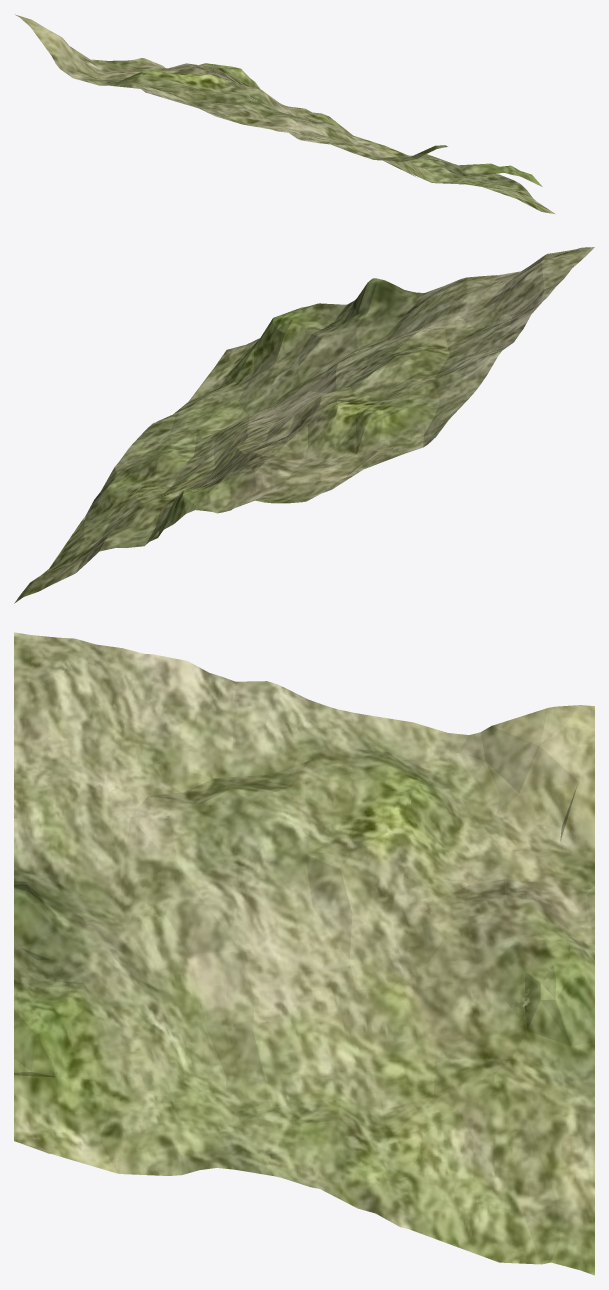
3 views of the same model, one above another, from view 1: azimuth 30°, elevation 25°; view 2: azimuth 150°, elevation 25°; view 3: azimuth 270°, elevation 25° (orthographic). The views are drawn at different scales.
Size of the model in its own units: 2.95 by 2.23 by 2.95.
3 materials, 3 textured.
